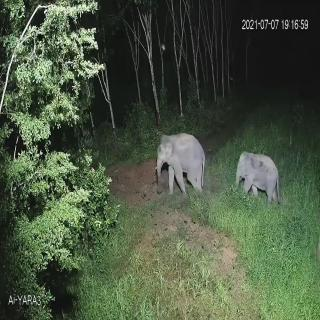Elephant: (151, 126, 211, 200), (232, 138, 284, 212)
